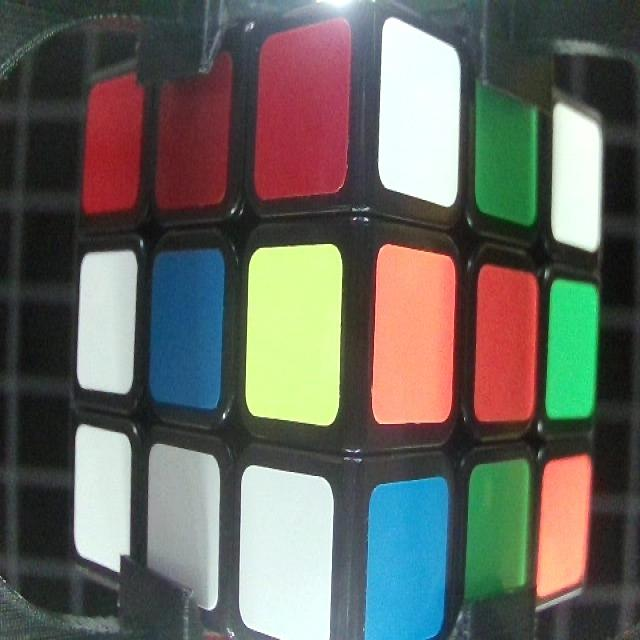b: (252, 256, 348, 420), (367, 480, 450, 640), (146, 260, 222, 396)
g: (475, 62, 540, 219), (466, 466, 529, 604), (552, 278, 600, 418)
o: (378, 249, 458, 427), (469, 264, 537, 417), (543, 460, 590, 586)
r: (259, 36, 351, 183), (158, 45, 235, 196), (86, 78, 142, 215)
w: (236, 471, 337, 640), (376, 22, 467, 206), (149, 447, 221, 621), (73, 428, 131, 582), (77, 251, 136, 400), (558, 104, 605, 243)
